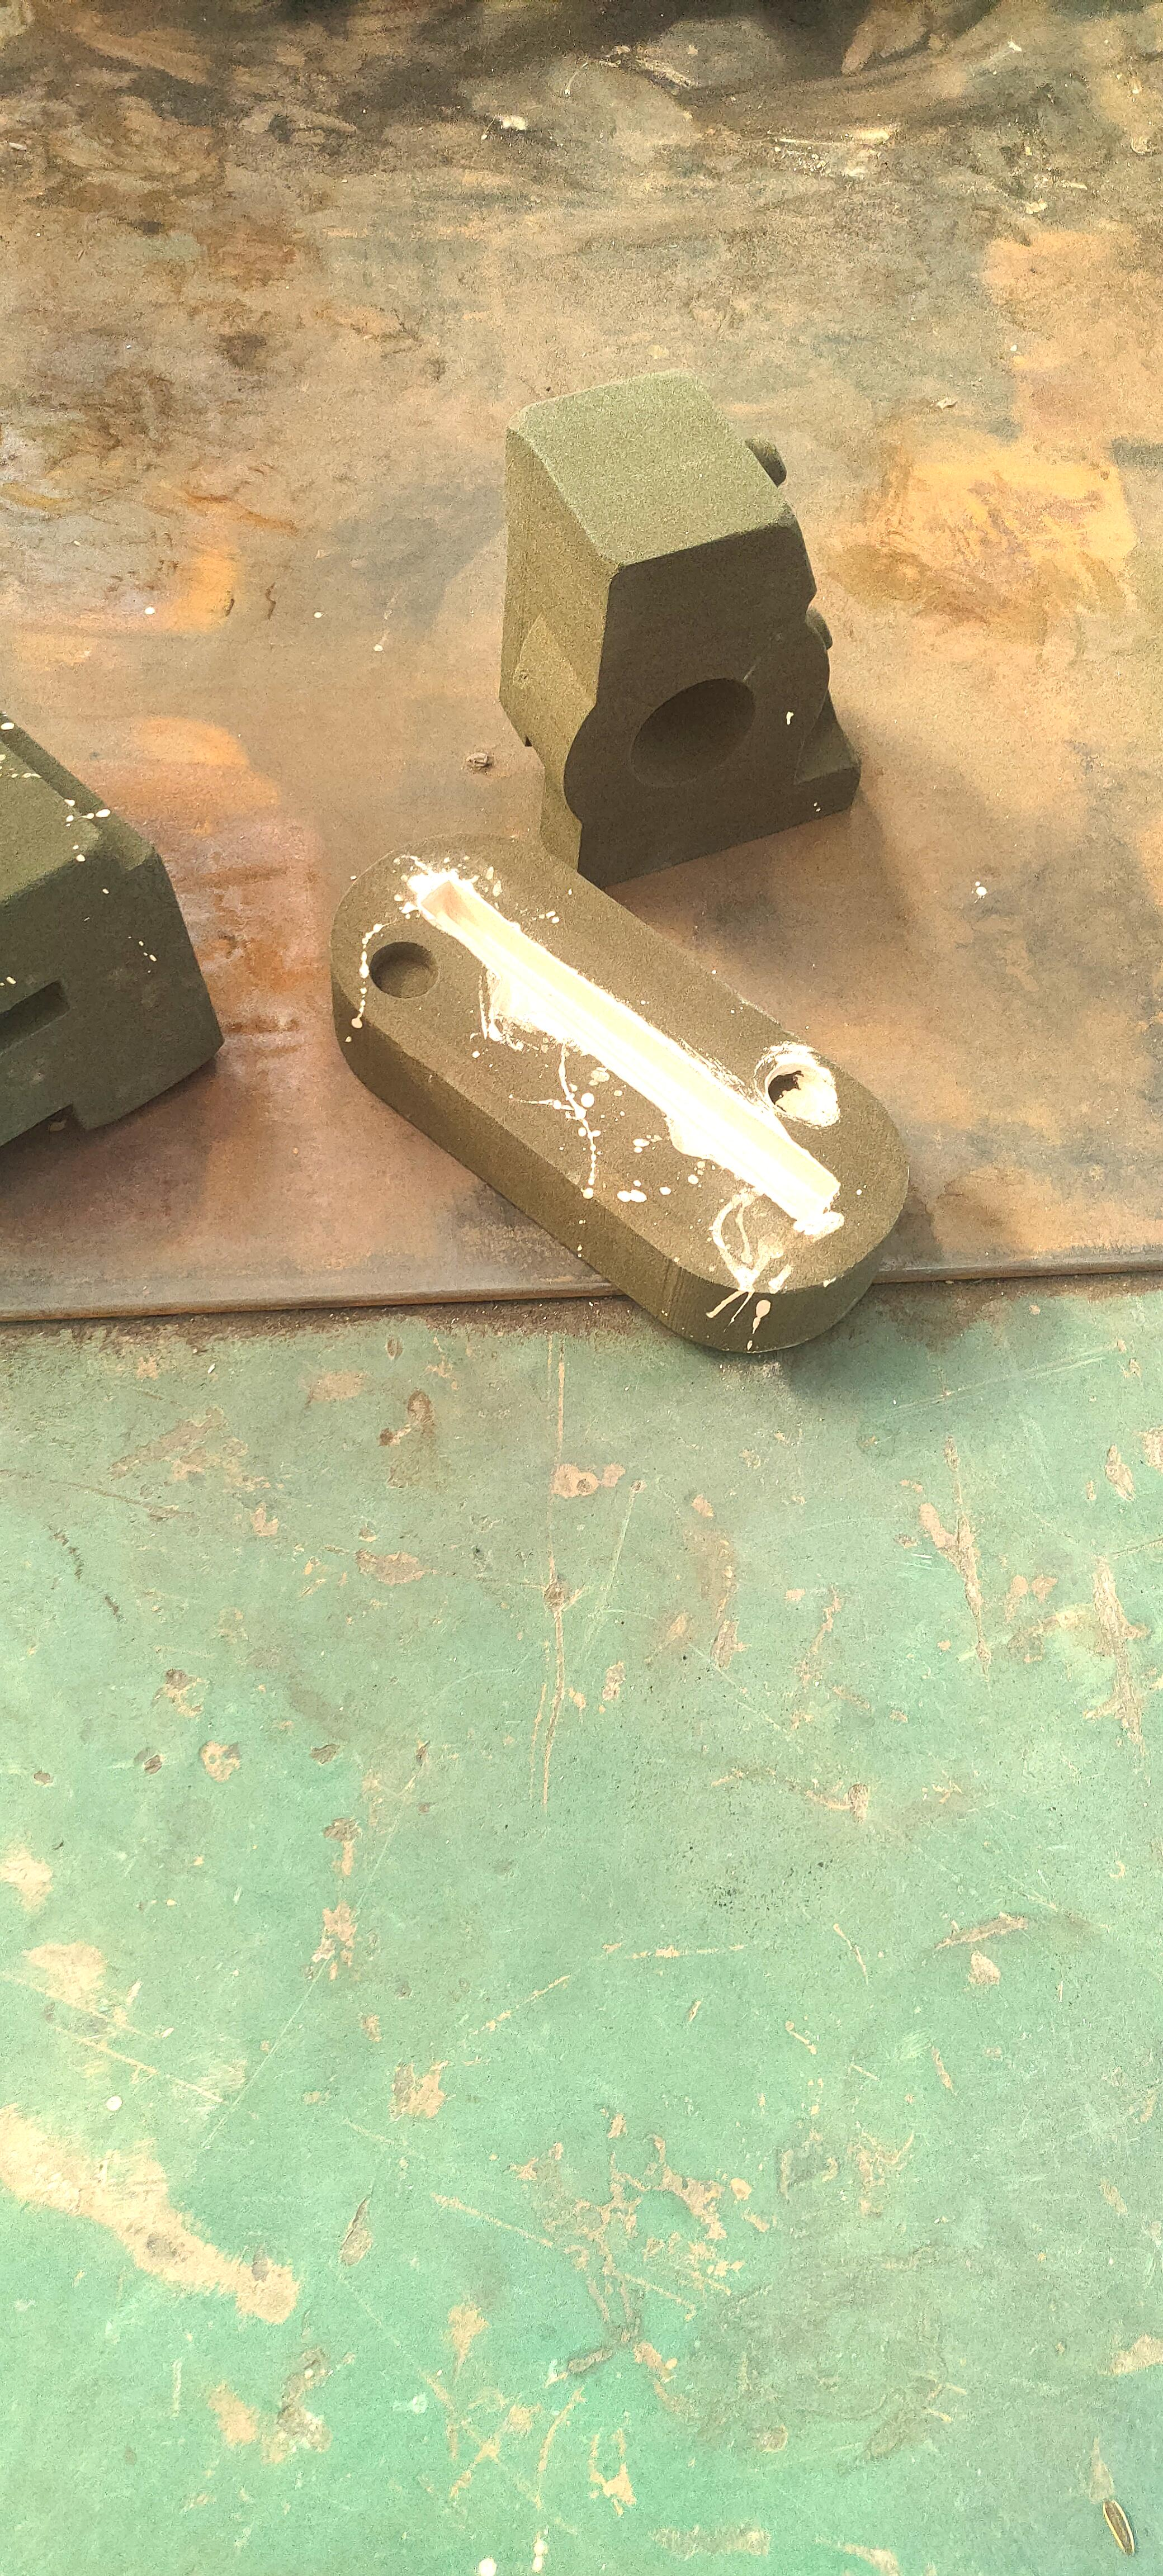pouring hole: (629, 677, 756, 790)
